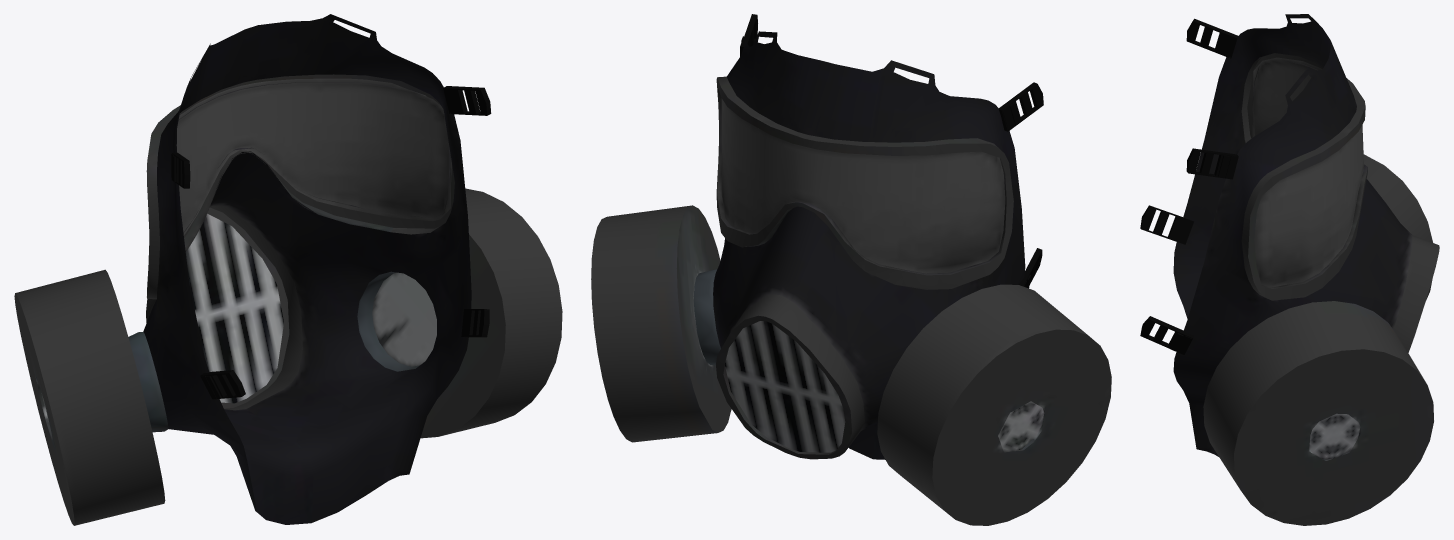
The model's file is gas_mask_black_lod1.glb.
The picture shows the model from 3 angles, left to right: view 1: azimuth 30°, elevation 25°; view 2: azimuth 150°, elevation 25°; view 3: azimuth 270°, elevation 25°; orthographic projection. The views are drawn at different scales.
Parts seen in each view (by area): view 1: gas_mask_black_4, gas_mask_black_3; view 2: gas_mask_black_4, gas_mask_black_3; view 3: gas_mask_black_4, gas_mask_black_3.
Part boxes in pixels (x1,y1,x2,y2): gas_mask_black_4: [14, 14, 562, 525]; gas_mask_black_3: [171, 86, 491, 399]; gas_mask_black_4: [591, 31, 1111, 525]; gas_mask_black_3: [740, 14, 1043, 288]; gas_mask_black_4: [1173, 14, 1439, 525]; gas_mask_black_3: [1140, 18, 1238, 354].
Bounding box in the file's own units: 0.289 × 0.2526 × 0.1644.
Materials: 2 (1 with a texture image).
